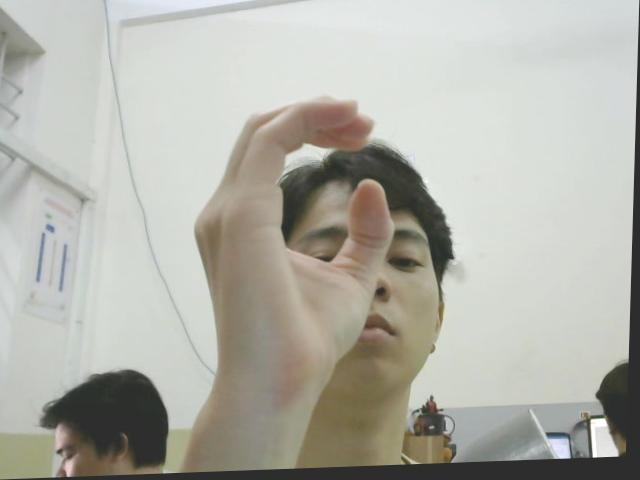C: (188, 92, 401, 391)
